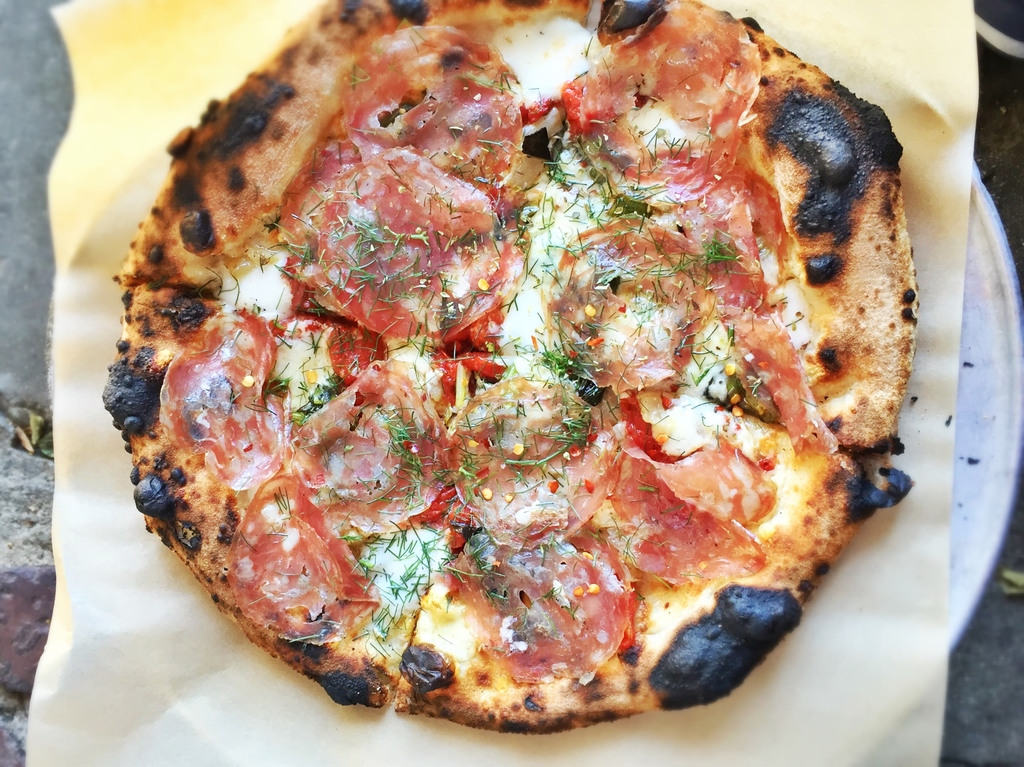Pizza: (97, 12, 936, 724)
